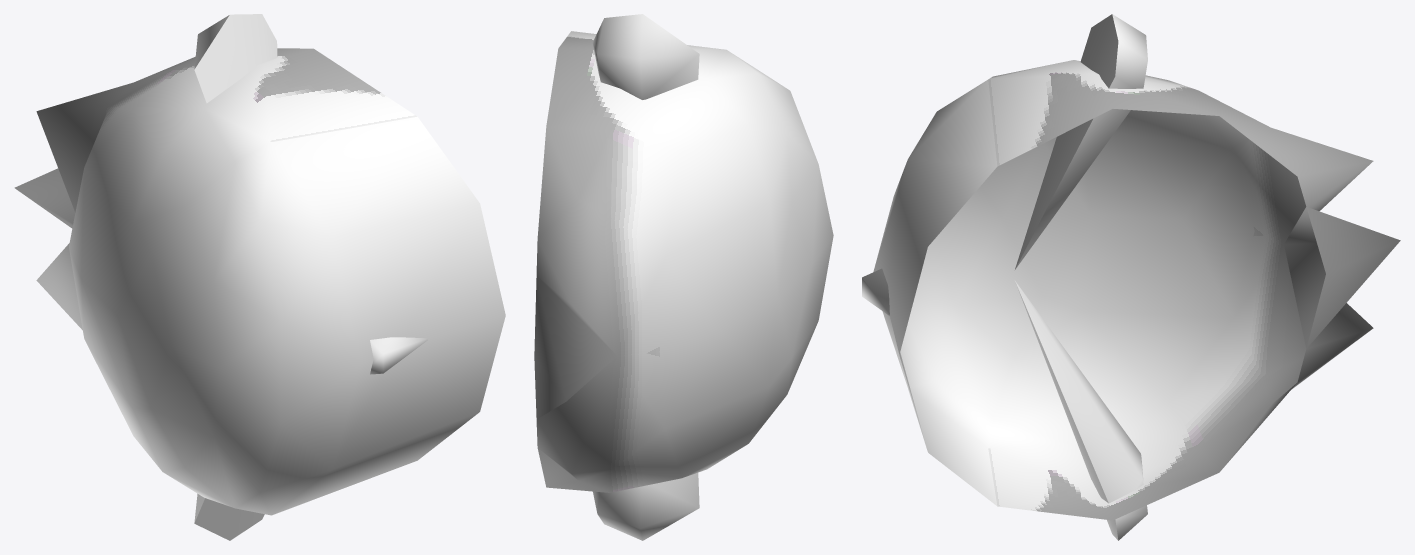
The model's file is boy05b.dae.
3 renders of one model, left to right at view 1: azimuth 30°, elevation 25°; view 2: azimuth 150°, elevation 25°; view 3: azimuth 270°, elevation 25°, orthographic.
Visible parts, largest first — view 1: boy05b; view 2: boy05b; view 3: boy05b.
Boxes of the visible parts, bbox=[...] form: boy05b: bbox=[14, 14, 505, 540]; boy05b: bbox=[534, 14, 833, 540]; boy05b: bbox=[862, 14, 1400, 540].
Size of the model in its own units: 15.5 by 26.71 by 25.07.
3 materials, 1 textured.
